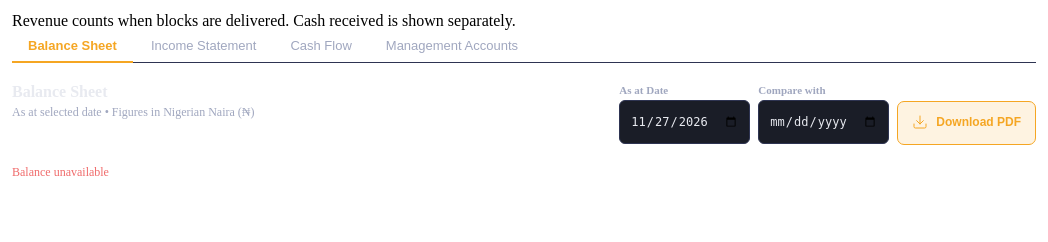
it: Management Accounts suppresses financial figures when its balance source fails
What coordinates should you click on to do the following:
click the button "Management Accounts"
I would click on:
 (452, 46)
Its box is x1=370 y1=30 x2=534 y2=63.
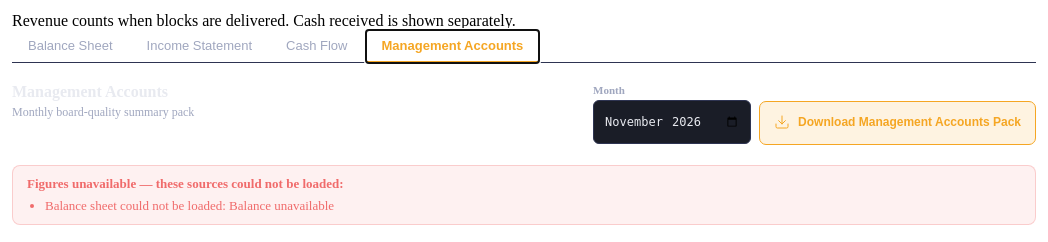
expect the list item "Balance sheet could not be loaded: Balance unavailable" is shown: met, box x1=45 y1=198 x2=334 y2=213
